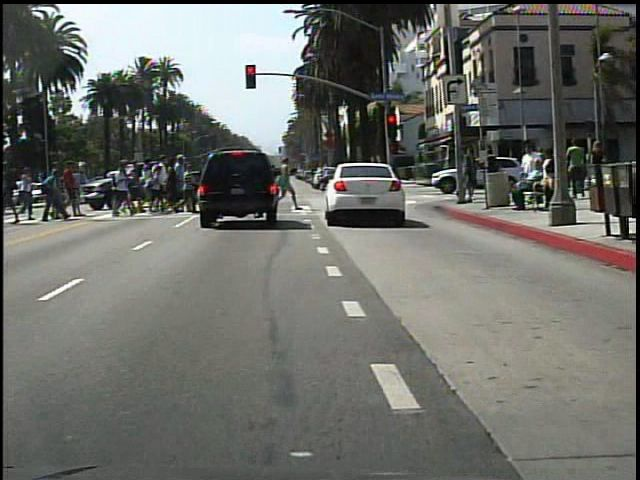person: (274, 152, 305, 219), (511, 157, 546, 215), (534, 148, 557, 212)
